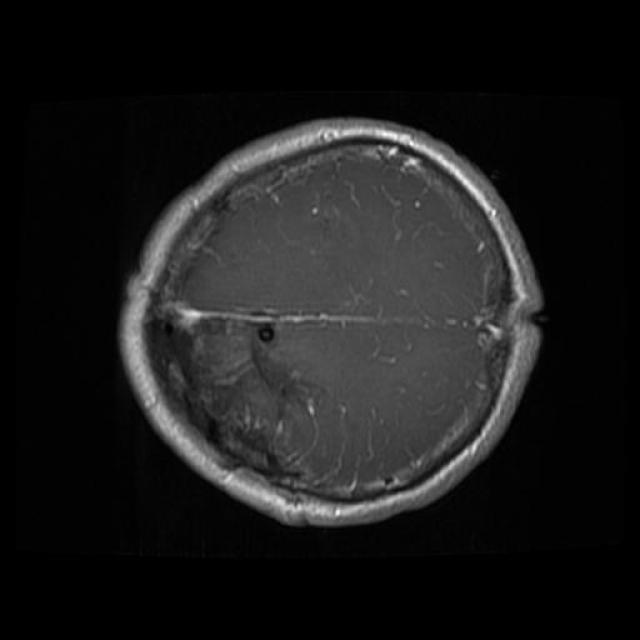Glioma: (156, 302, 325, 488)
